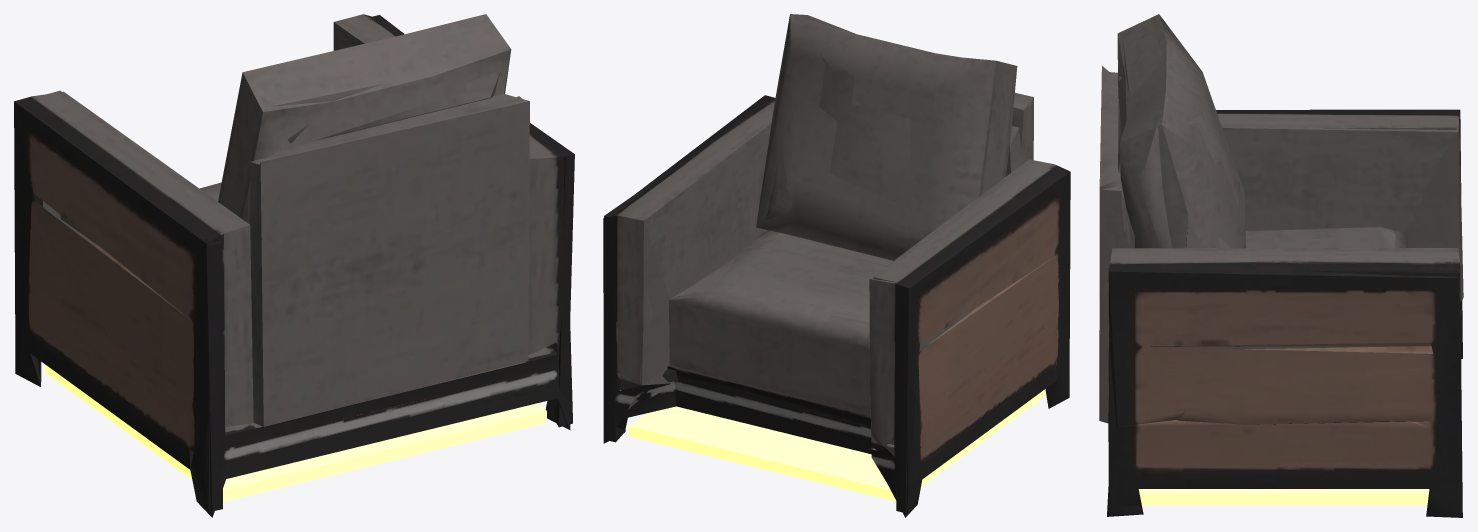
File: seat_reading-chair_v2.glb
The picture shows the model from 3 angles, left to right: view 1: azimuth 30°, elevation 25°; view 2: azimuth 150°, elevation 25°; view 3: azimuth 270°, elevation 25°; orthographic projection. The views are drawn at different scales.
Visible parts, largest first — view 1: body, lights; view 2: body, lights; view 3: body, lights.
Part boxes in pixels (<box>): body: <box>14,14,574,517</box>; lights: <box>45,365,546,502</box>; body: <box>603,14,1070,517</box>; lights: <box>629,389,1046,501</box>; body: <box>1099,14,1463,517</box>; lights: <box>1138,489,1429,505</box>.
Size of the model in its own units: 0.8736 by 0.9283 by 0.8252.
Materials: 2 (1 with a texture image).
